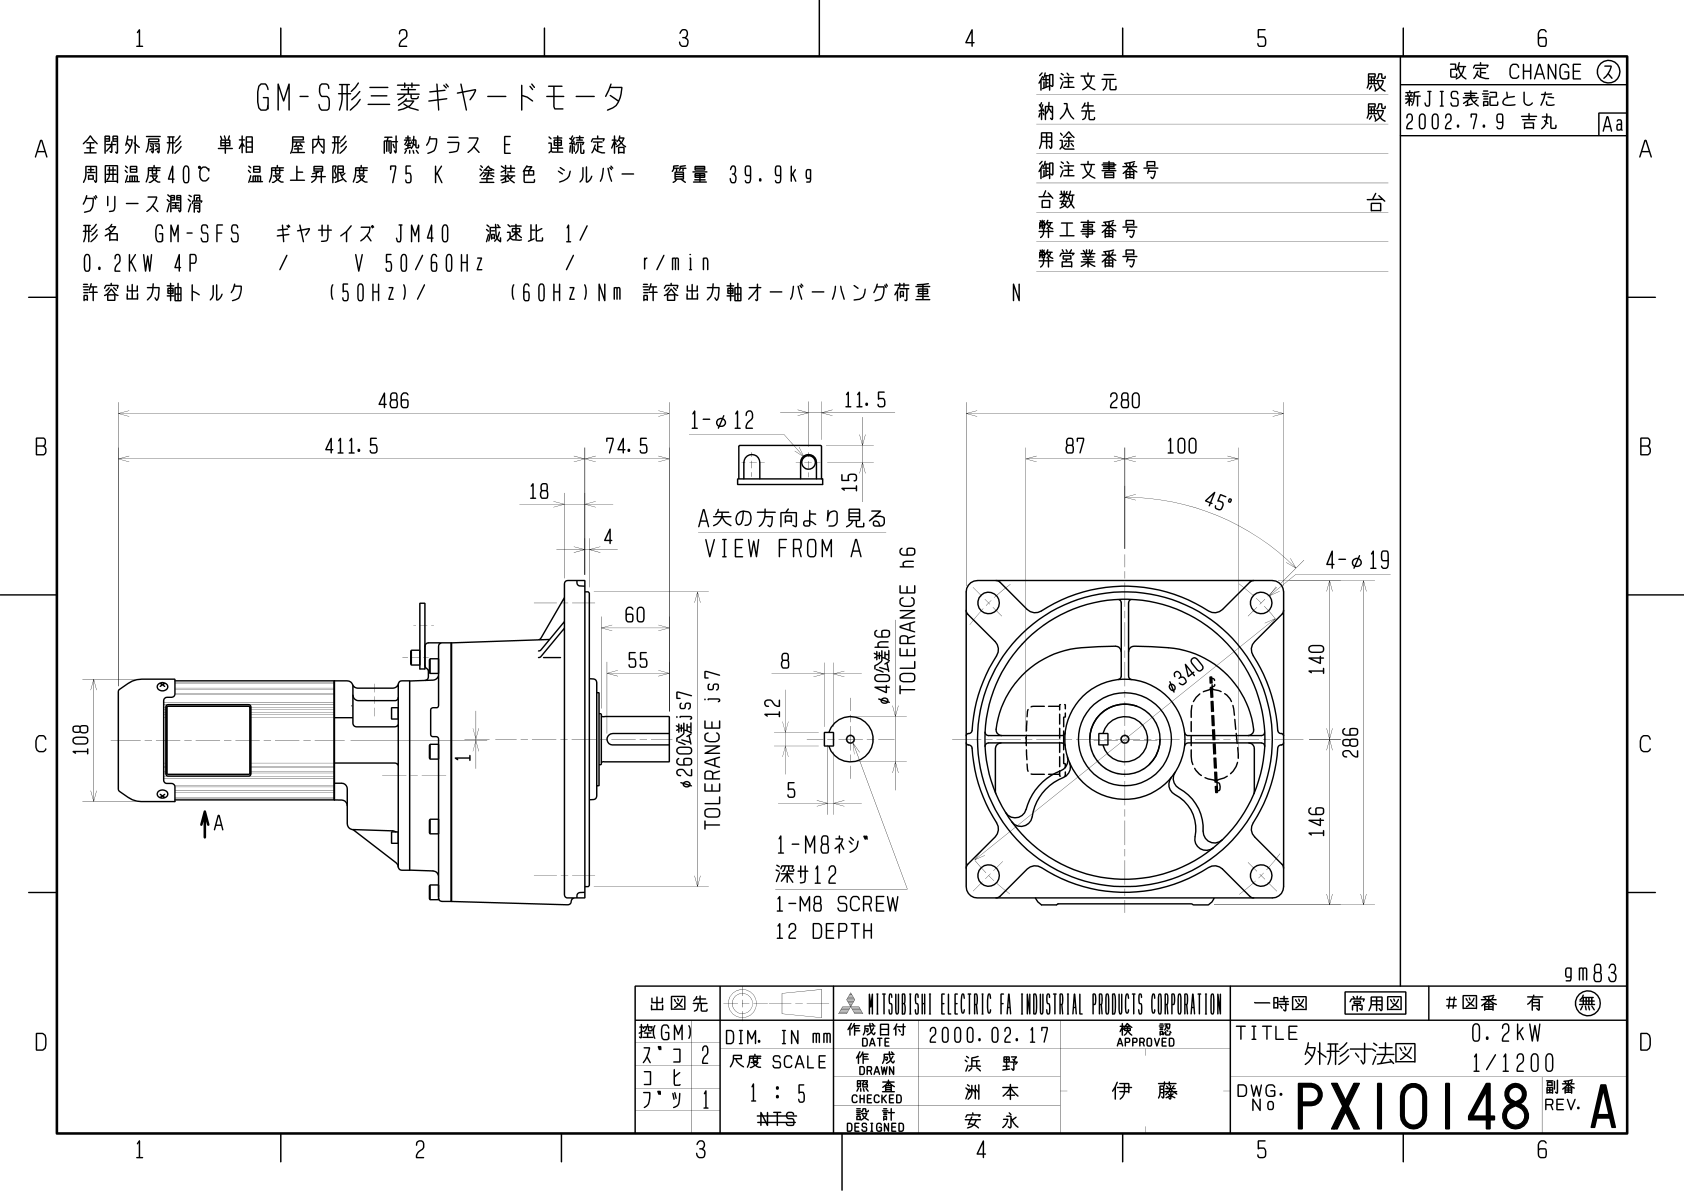GM_S_屋内＿単相_フランジ: (64, 345, 1392, 959)
